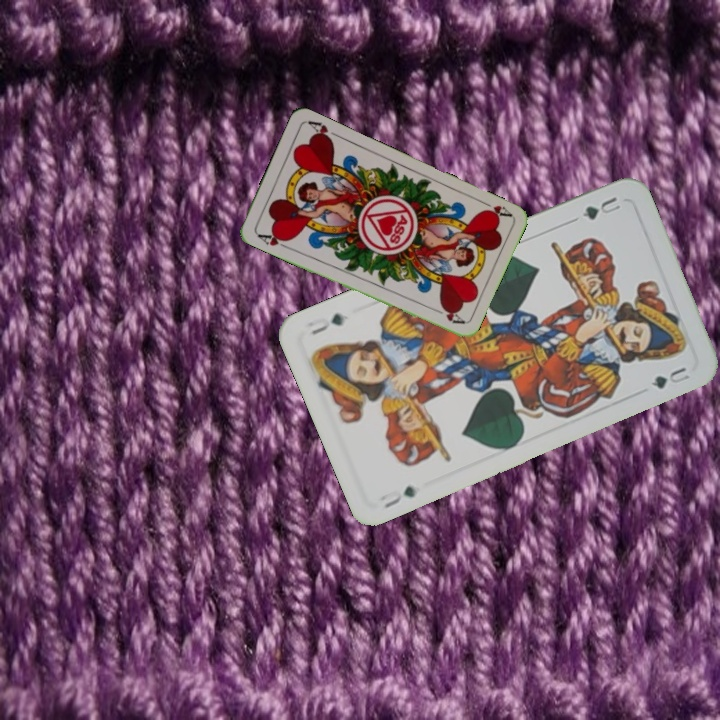GU: (578, 192, 625, 223), (379, 481, 418, 511)
HA: (475, 196, 514, 221), (253, 229, 292, 251)
